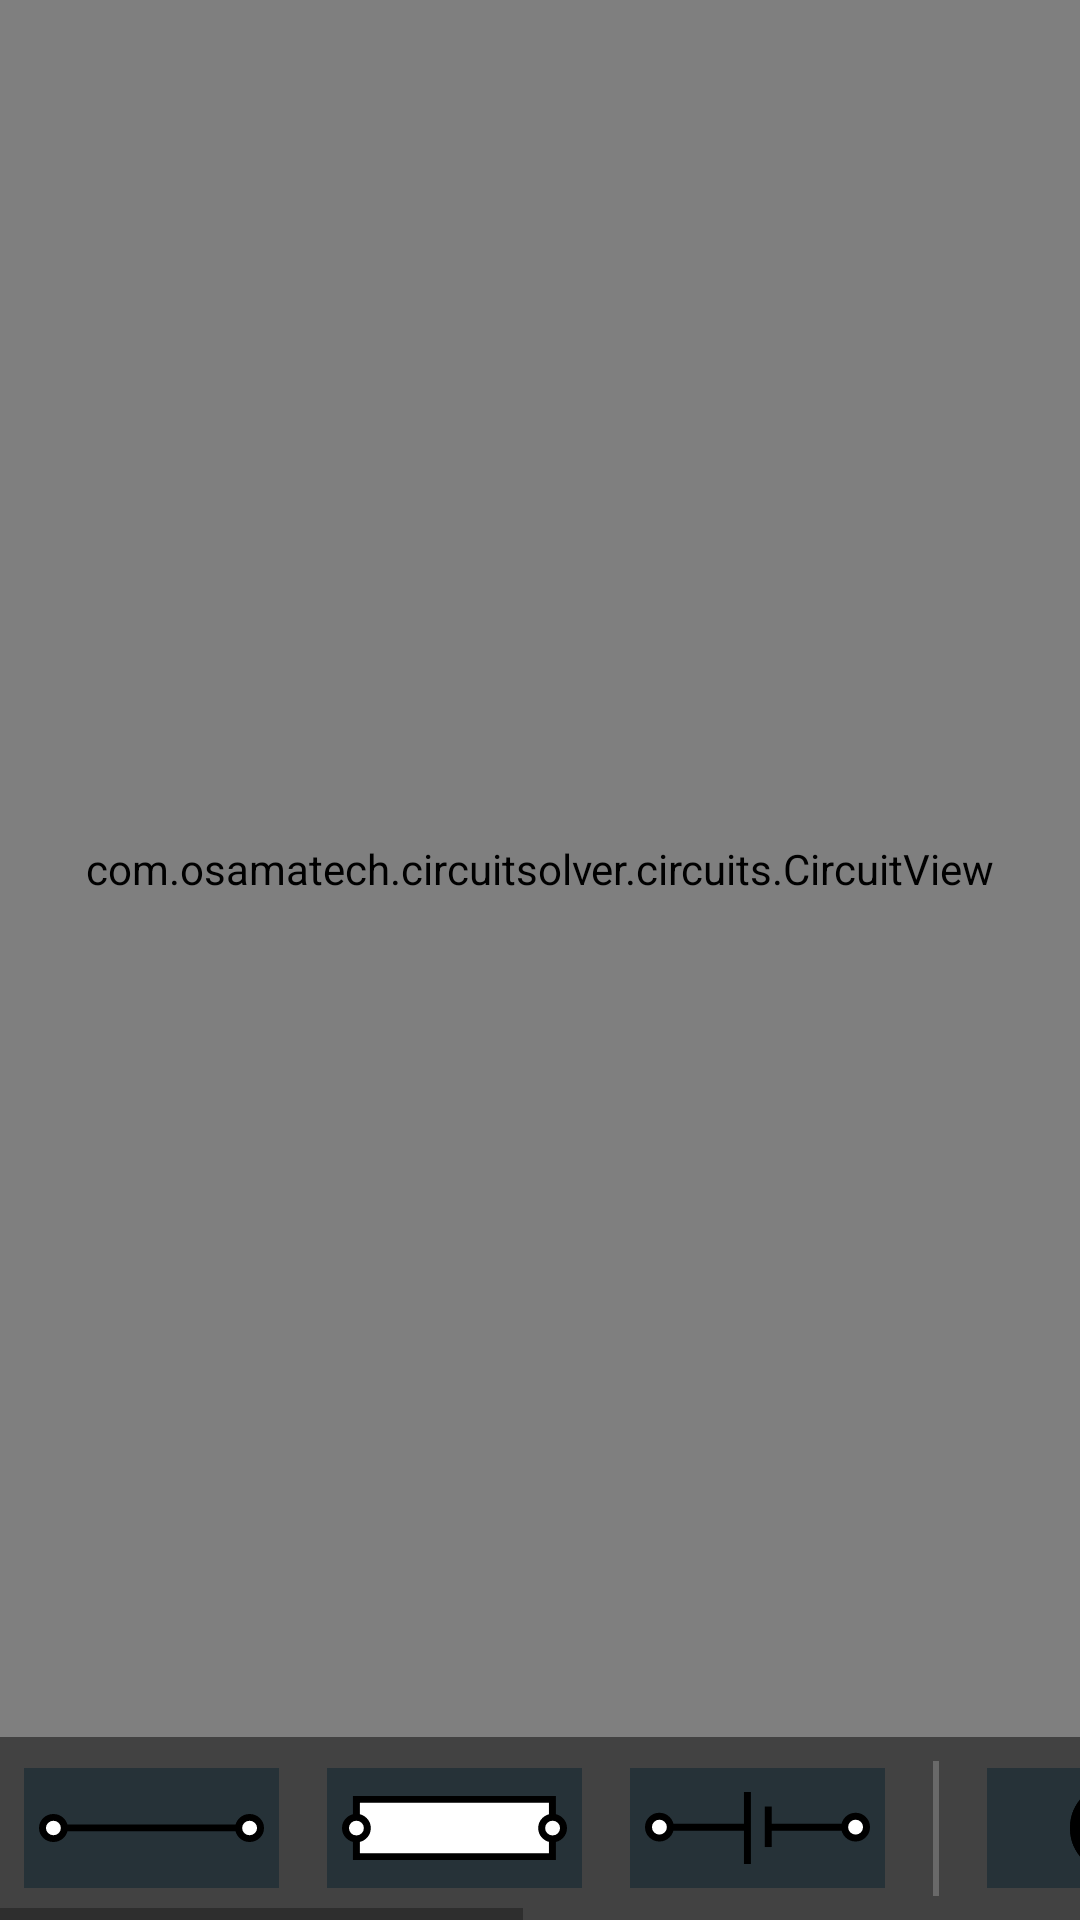

Where to tap for icons on this 1080px x 1920px app screen, as [x,y]:
battery: [757,1828]
resistor: [454,1828]
wire: [151,1828]
